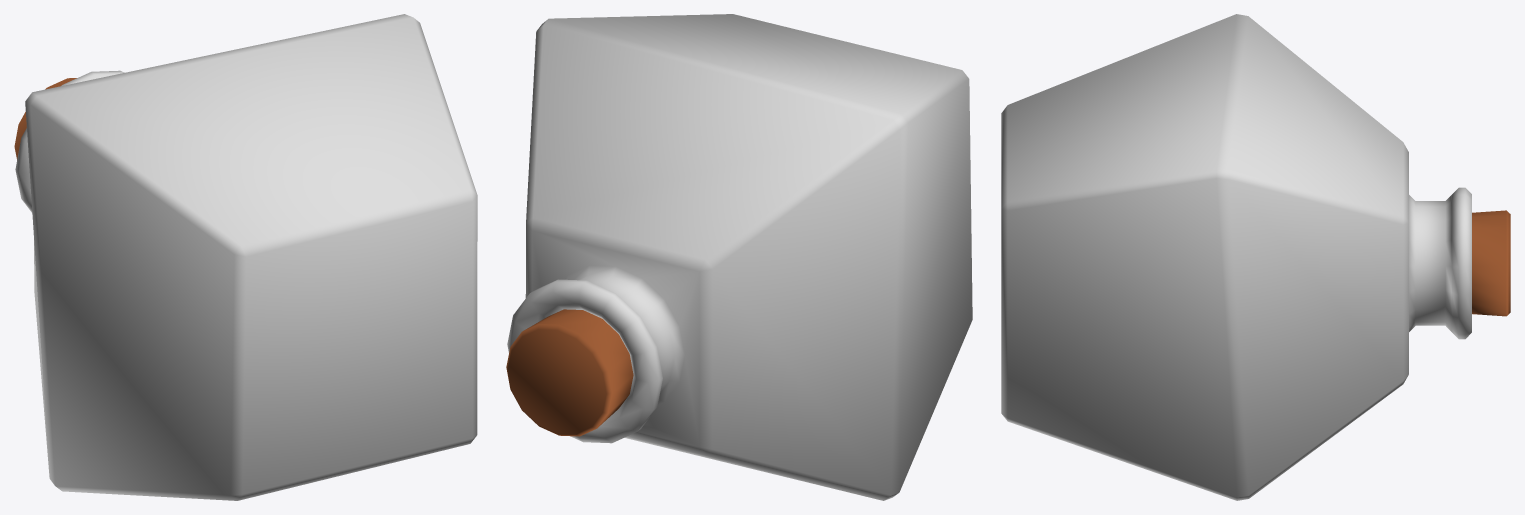
Rendered from CubicBottle.fbx.
3 views of the same model, side by side, from view 1: azimuth 30°, elevation 25°; view 2: azimuth 150°, elevation 25°; view 3: azimuth 270°, elevation 25° (orthographic). The views are drawn at different scales.
Visible parts, largest first — view 1: Bottle; view 2: Bottle, Cap; view 3: Bottle, Cap.
Boxes of the visible parts, left/top/right/bottom form: Bottle: left=15, top=14, right=477, bottom=500; Bottle: left=507, top=14, right=972, bottom=500; Cap: left=506, top=309, right=633, bottom=436; Bottle: left=1001, top=14, right=1471, bottom=500; Cap: left=1472, top=210, right=1510, bottom=316.
Size of the model in its own units: 9.63 by 9.58 by 12.98.
